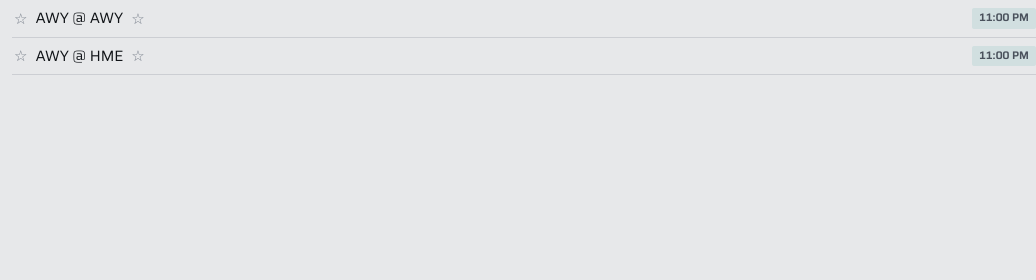
Test: MyTeams › collects hits across several viewers
Click the 2nd button "☆": coordinates (138, 18) left=129, top=9, right=147, bottom=28
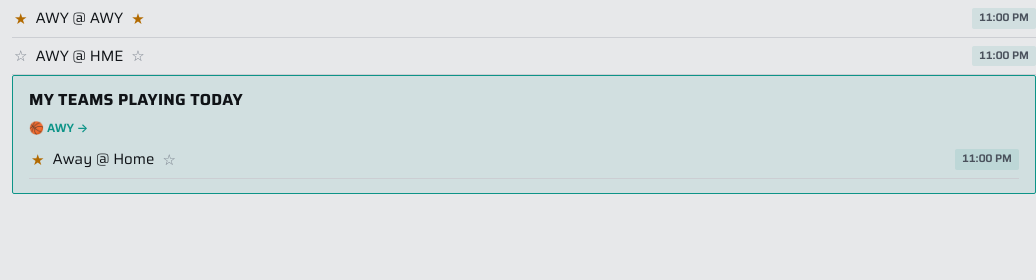
Click the 2nd button "☆": coordinates (138, 56) left=129, top=46, right=147, bottom=65
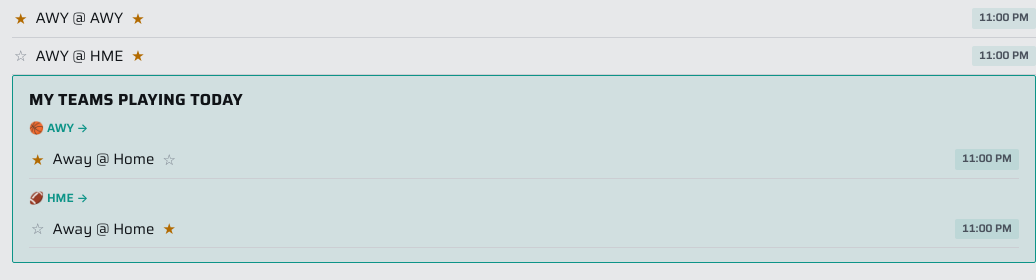
Result: the link titled "Open in NBA" is shown at left=29, top=119, right=88, bottom=137
Result: the link titled "Open in NFL" is shown at left=29, top=189, right=88, bottom=207
